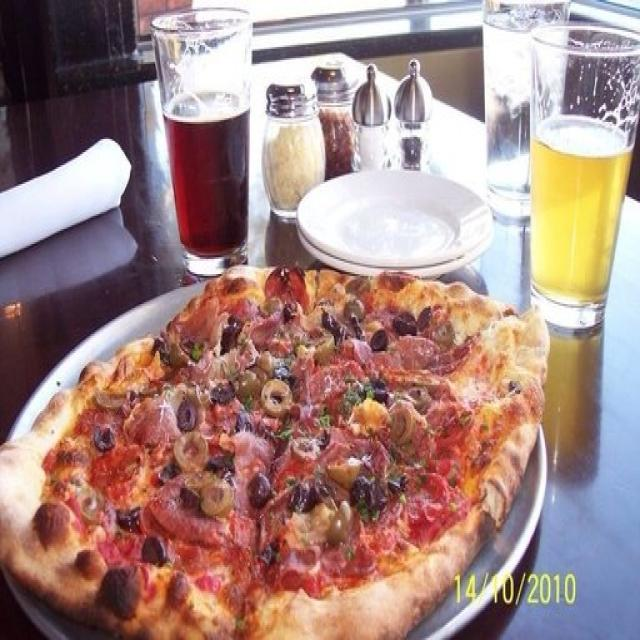Ham: (129, 403, 177, 450), (314, 363, 360, 388), (155, 493, 182, 530), (396, 340, 436, 363)
Olives: (176, 432, 208, 474), (203, 475, 234, 515), (264, 378, 290, 414), (388, 404, 412, 442), (290, 479, 316, 506), (140, 539, 168, 563), (309, 322, 330, 353), (237, 369, 262, 393), (79, 488, 99, 518), (250, 477, 272, 503), (408, 382, 429, 408), (120, 512, 146, 532), (293, 436, 317, 457), (331, 514, 345, 548), (344, 296, 362, 322), (227, 321, 241, 351), (396, 311, 415, 333), (96, 426, 112, 452), (181, 403, 195, 430), (372, 328, 385, 353), (284, 304, 297, 319)
Pizza: (1, 267, 544, 640)
